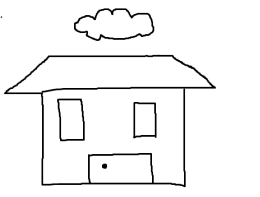clouds: (72, 8, 155, 41)
door: (85, 149, 156, 189)
open_window: (57, 97, 85, 141), (133, 101, 157, 138)
roof: (5, 54, 216, 94)
wall: (38, 83, 191, 188)
